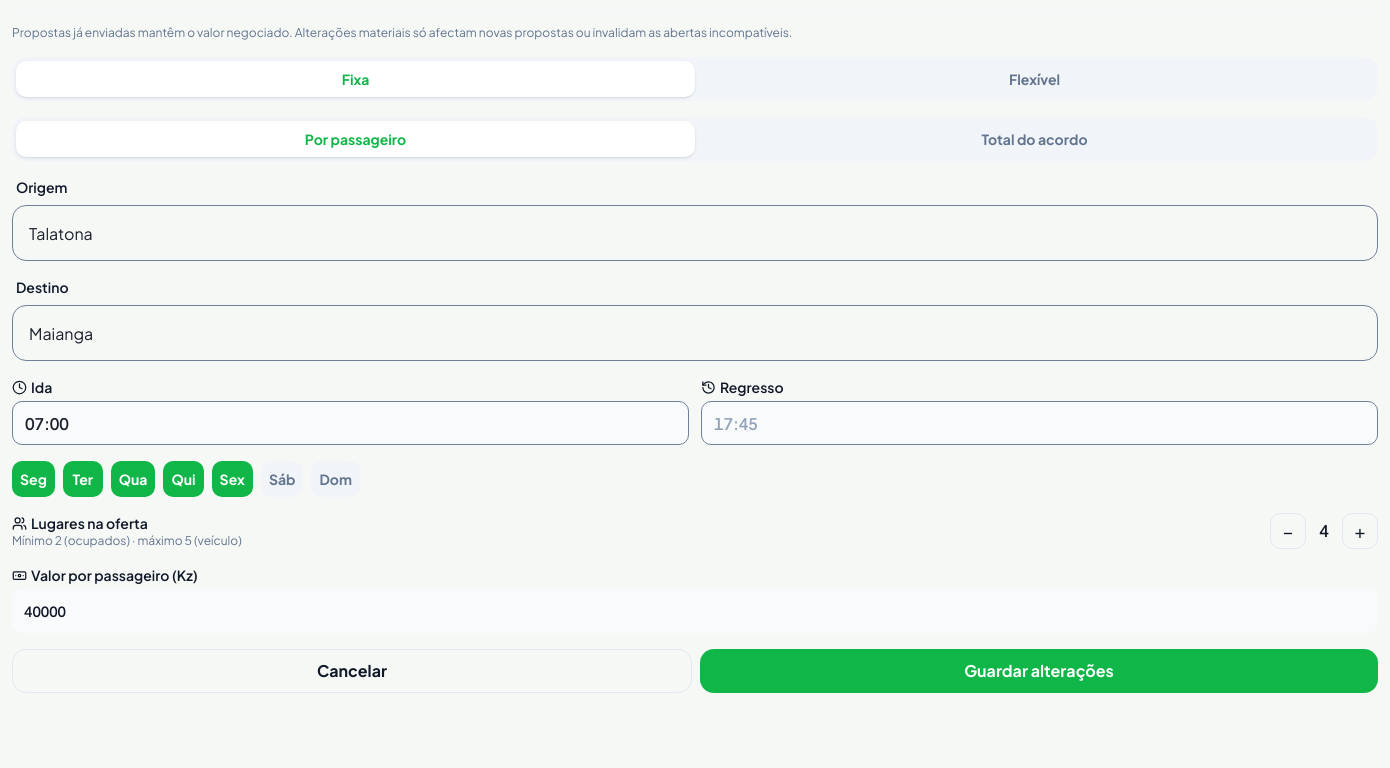
Test: OfertaEditPanel › stepper de lugares trava nos limites min/max do veículo
Expected: the text "4" is shown, [1319,520,1329,541]
Expected: the text "Mínimo 2 (ocupados) · máximo 5 (veículo)" is shown, [12,533,242,549]
Click the button named "Menos lugares". click: (1288, 531)
box: [1270,513,1306,549]
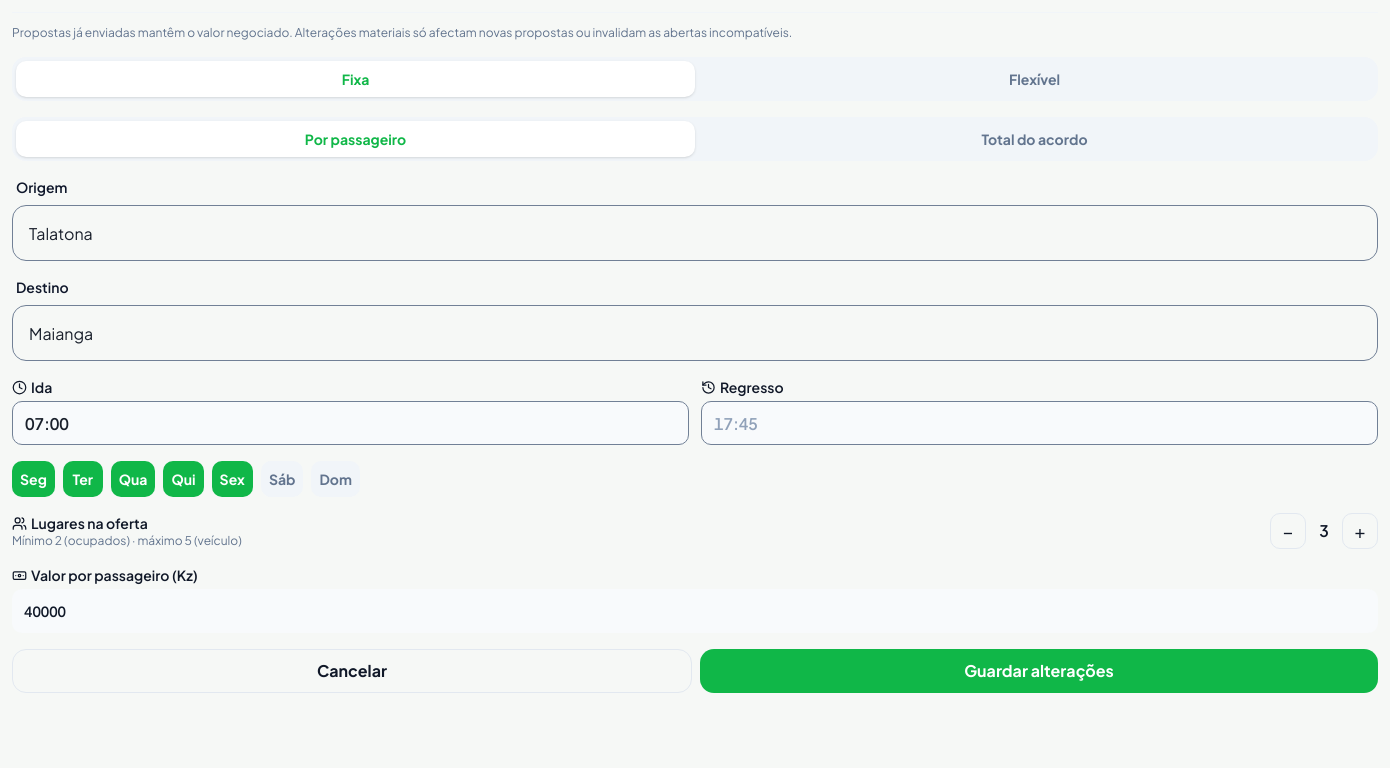
Now the text "3" is shown, box [1319,520,1329,541]
Click the button named "Menos lugares". click: (1288, 531)
box: [1270,513,1306,549]
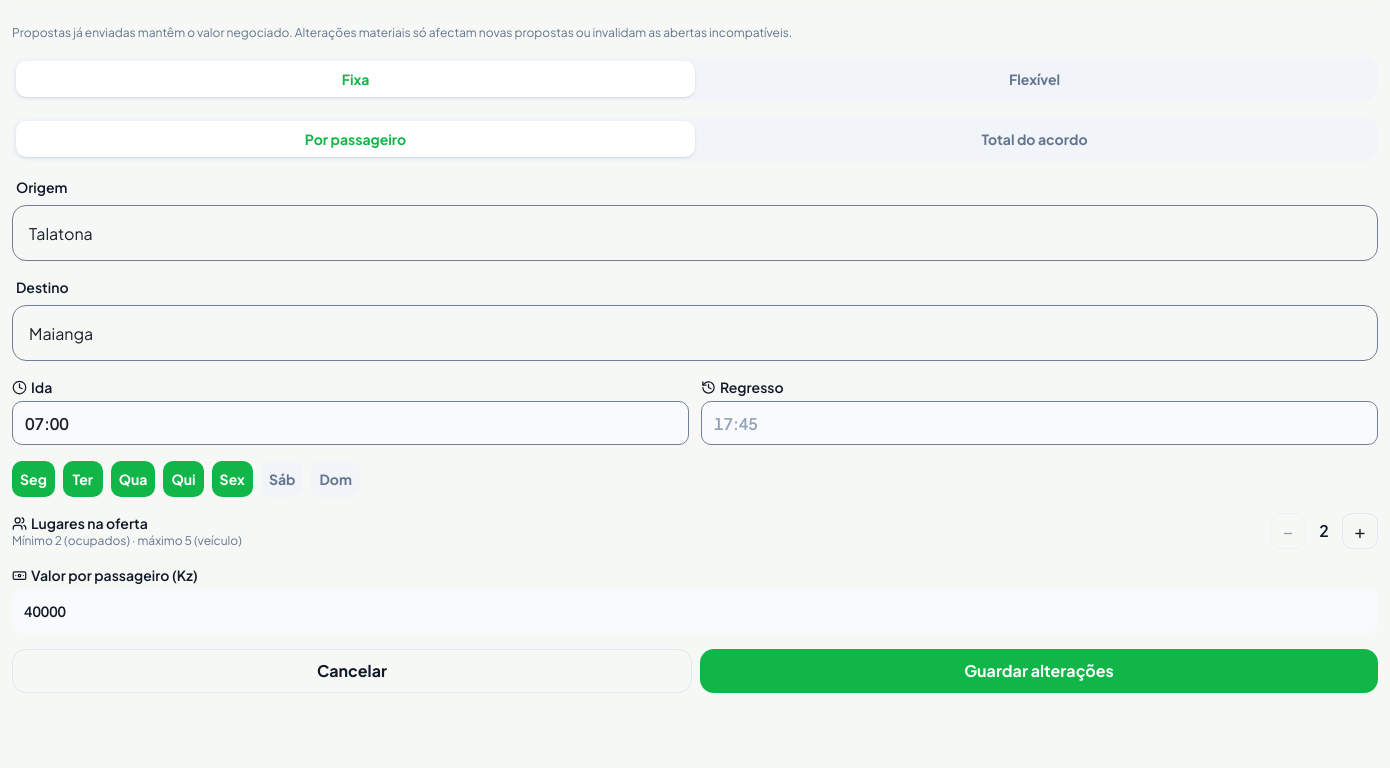
Now the text "2" is shown, box [1319,520,1329,541]
Click the button named "Mais lugares". click: (1360, 531)
box: [1342,513,1378,549]
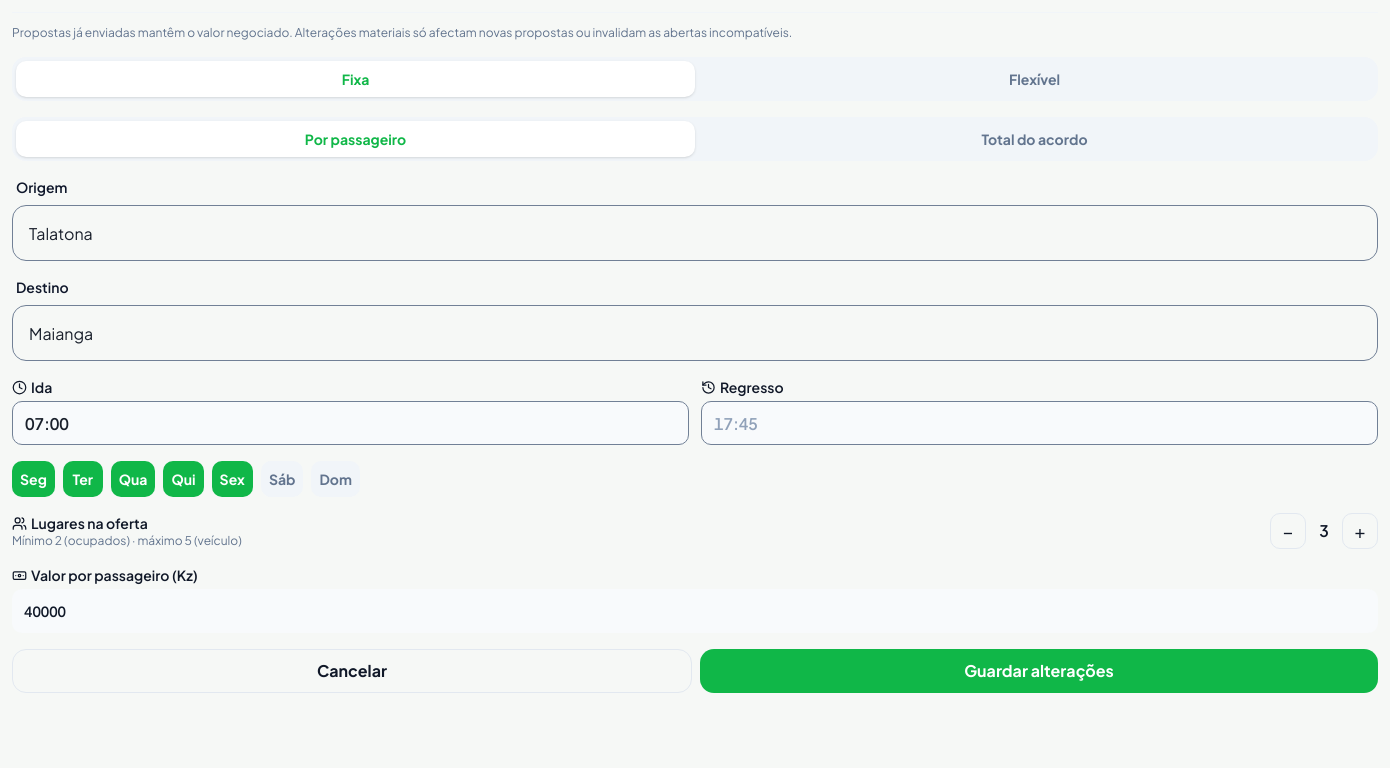
Click the button named "Mais lugares". click: (1360, 531)
box: [1342,513,1378,549]
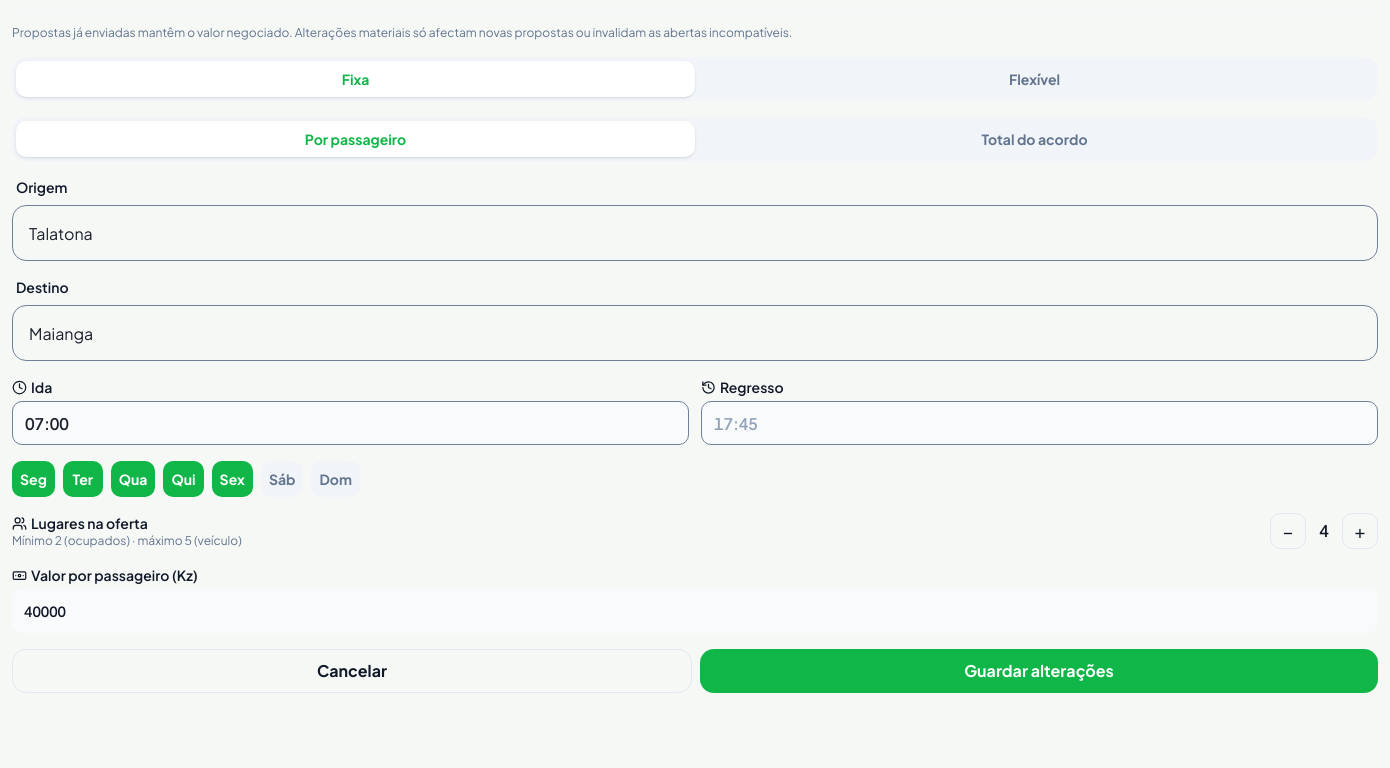
Click the button named "Mais lugares". click: (1360, 531)
box: [1342,513,1378,549]
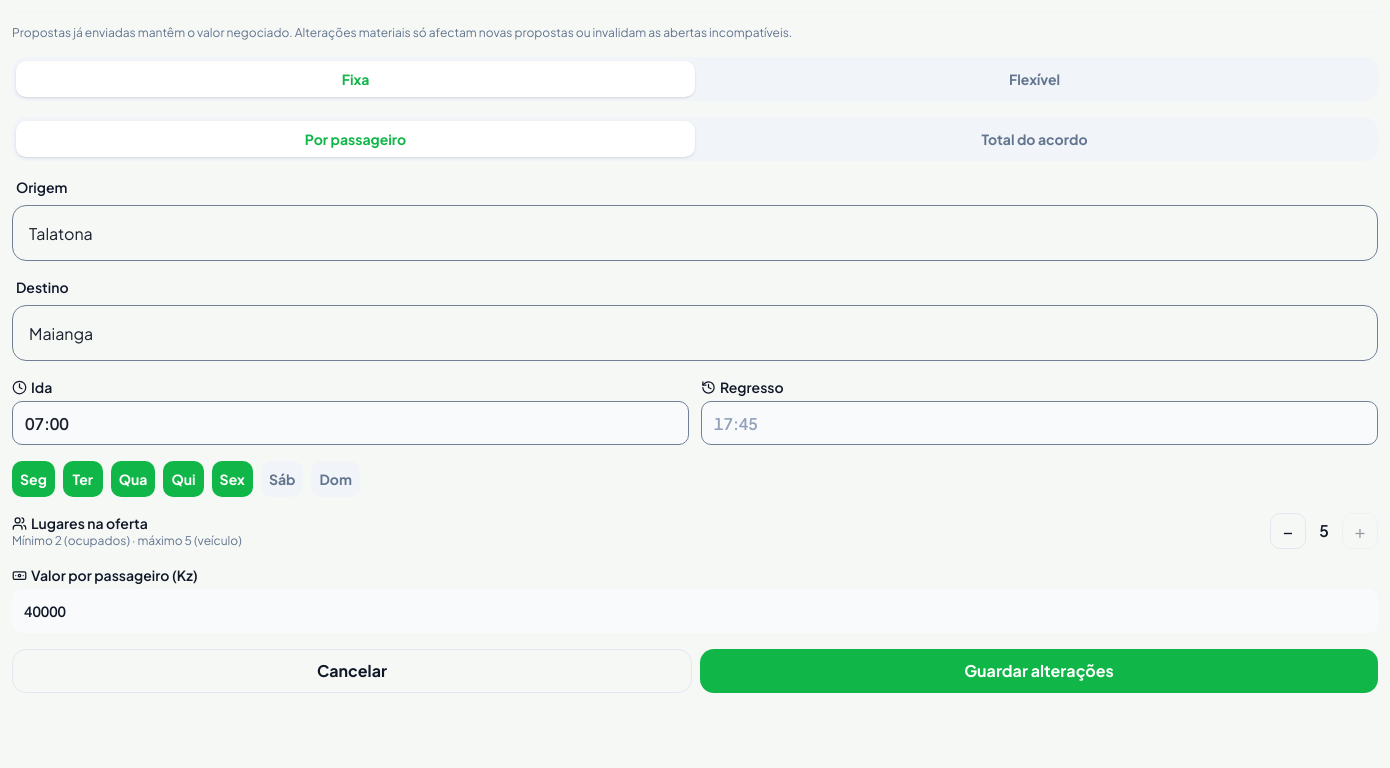
Now the text "5" is shown, box [1319,520,1329,541]
Now the button named "Mais lugares" is disabled, box [1342,513,1378,549]
